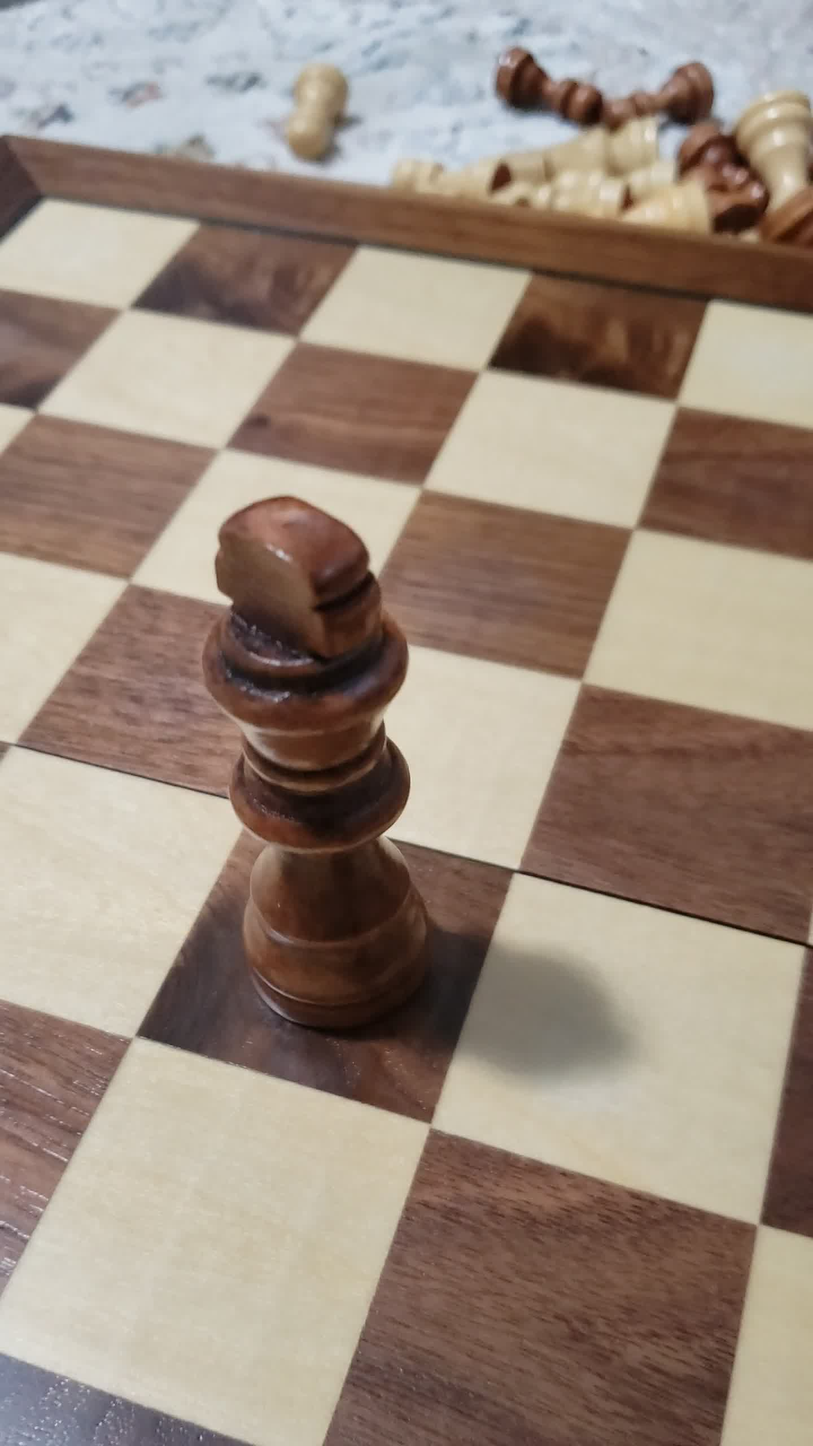black-king: (150, 484, 467, 1062)
